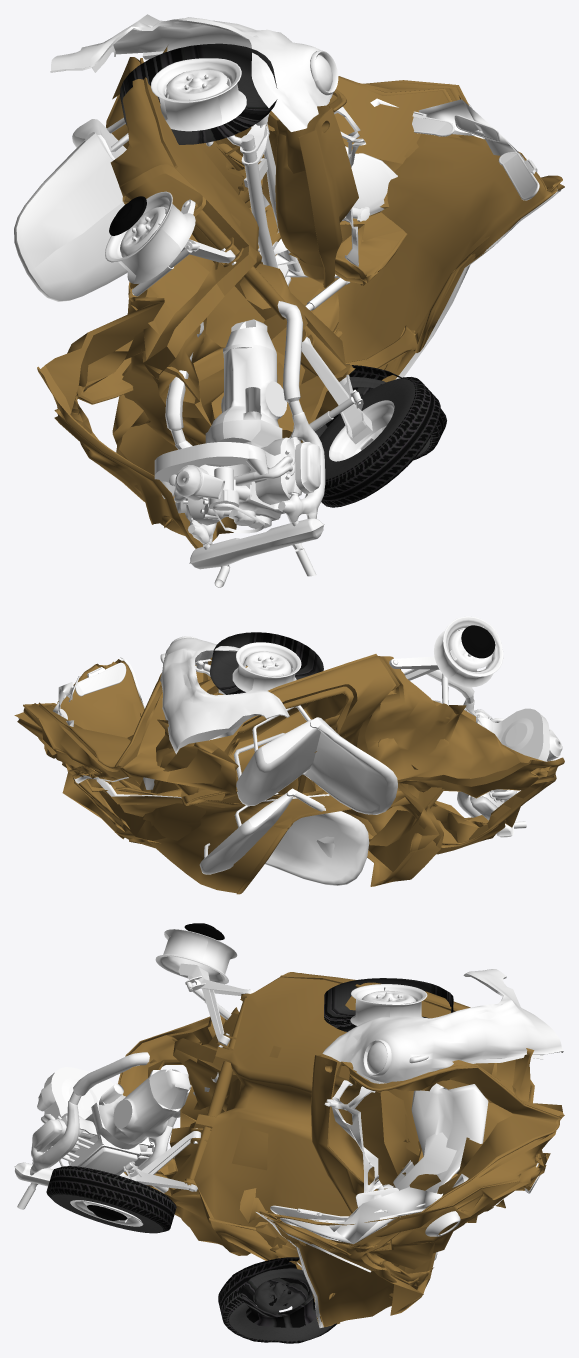
Rendered from crash_13.fbx.
3 views of the same model, one above another, from view 1: azimuth 30°, elevation 25°; view 2: azimuth 150°, elevation 25°; view 3: azimuth 270°, elevation 25° (orthographic). The views are drawn at different scales.
Visible parts, largest first — view 1: Mesh_0598_rip, Mesh_0672_rip1, Mesh_0508_rip, Mesh_0571_rip, Mesh_0538_rip.004, Mesh_0519_rip, Mesh_0517_rip1, Mesh_0756_rip, Mesh_0551_rip1, Mesh_0799_rip1, Mesh_0580_rip1, Mesh_0587_rip1 (+4 smaller); view 2: Mesh_0598_rip, Mesh_0508_rip, Mesh_0501_rip, Mesh_0571_rip, Mesh_0672_rip1, Mesh_0517_rip1, Mesh_0519_rip, Mesh_0756_rip, Mesh_0799_rip1, Mesh_0580_rip1, Mesh_0698_rip; view 3: Mesh_0598_rip, Mesh_0672_rip1, Mesh_0571_rip, Mesh_0587_rip1, Mesh_0538_rip.004, Mesh_0799_rip1, Mesh_0513_rip, Mesh_0755_rip, Mesh_0580_rip1, Mesh_0517_rip1, Mesh_0519_rip, Mesh_0756_rip (+3 smaller).
Part boxes in pixels (x1,y1,x2,y2): Mesh_0598_rip: (37,46,564,548); Mesh_0672_rip1: (154,301,325,587); Mesh_0508_rip: (14,117,128,301); Mesh_0571_rip: (50,14,332,131); Mesh_0538_rip.004: (319,377,440,507); Mesh_0519_rip: (150,58,246,131); Mesh_0517_rip1: (105,191,195,283); Mesh_0756_rip: (120,43,277,144); Mesh_0551_rip1: (190,98,350,310); Mesh_0799_rip1: (370,98,539,200); Mesh_0580_rip1: (132,199,372,444); Mesh_0587_rip1: (251,106,397,266); Mesh_0598_rip: (14,654,564,894); Mesh_0508_rip: (234,705,397,814); Mesh_0501_rip: (199,788,369,885); Mesh_0571_rip: (160,637,289,754); Mesh_0672_rip1: (426,669,562,837); Mesh_0517_rip1: (434,616,503,687); Mesh_0519_rip: (232,642,301,692); Mesh_0756_rip: (209,632,323,706); Mesh_0799_rip1: (18,662,126,726); Mesh_0580_rip1: (389,650,456,705); Mesh_0698_rip: (74,657,329,801); Mesh_0598_rip: (118,972,564,1327); Mesh_0672_rip1: (14,1052,218,1209); Mesh_0571_rip: (322,969,563,1083); Mesh_0587_rip1: (324,1080,488,1193); Mesh_0538_rip.004: (46,1166,176,1233); Mesh_0799_rip1: (270,1163,538,1244); Mesh_0513_rip: (241,1268,316,1327); Mesh_0755_rip: (218,1257,336,1343); Mesh_0580_rip1: (123,963,254,1193); Mesh_0517_rip1: (155,923,237,984); Mesh_0519_rip: (350,984,427,1025); Mesh_0756_rip: (324,978,453,1031).
Size of the model in its own units: 6.83 by 3.98 by 6.78.
3 materials, 1 textured.
